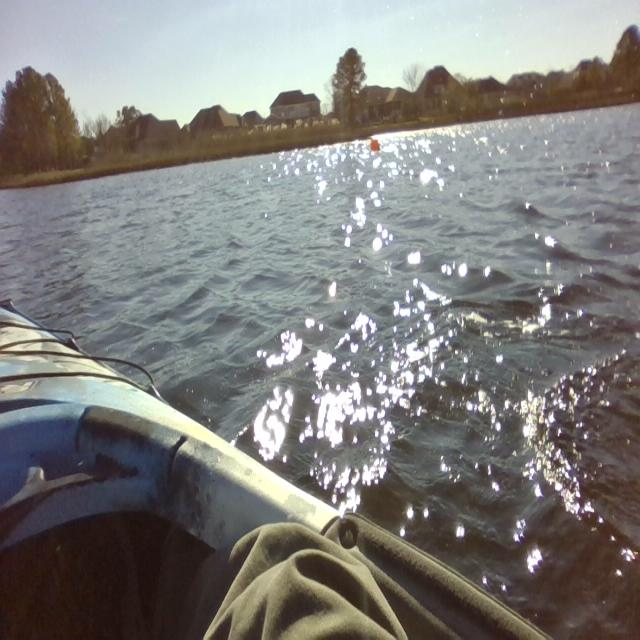Buoy: (364, 134, 384, 158)
